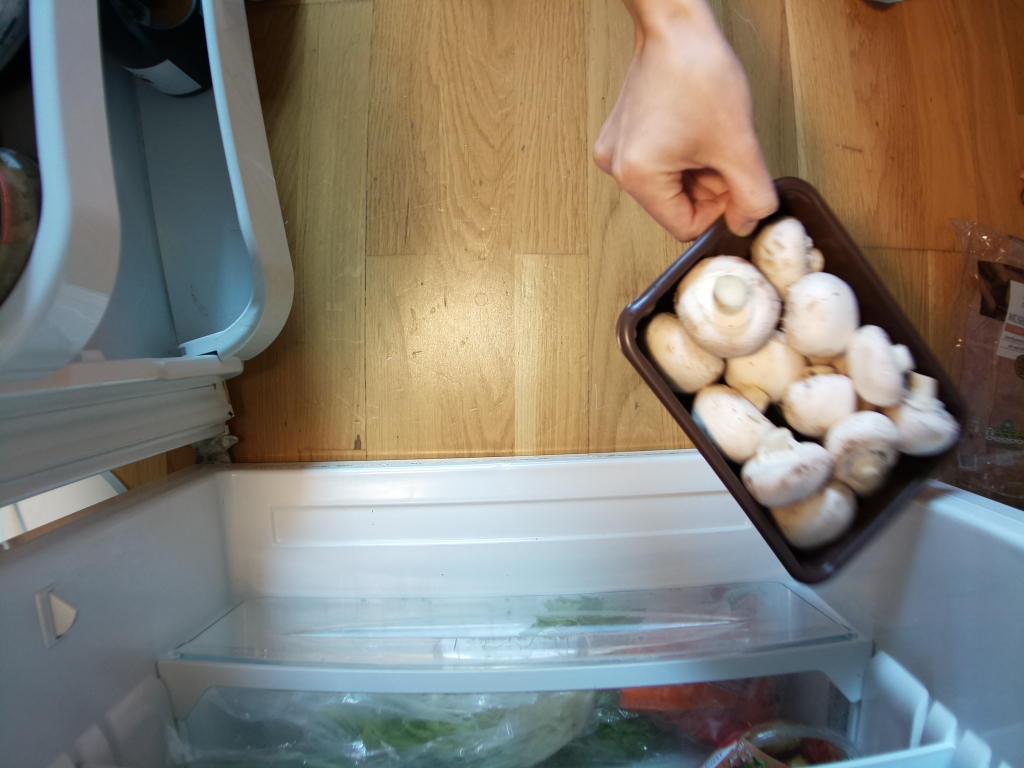mushrooms: (615, 179, 971, 583)
